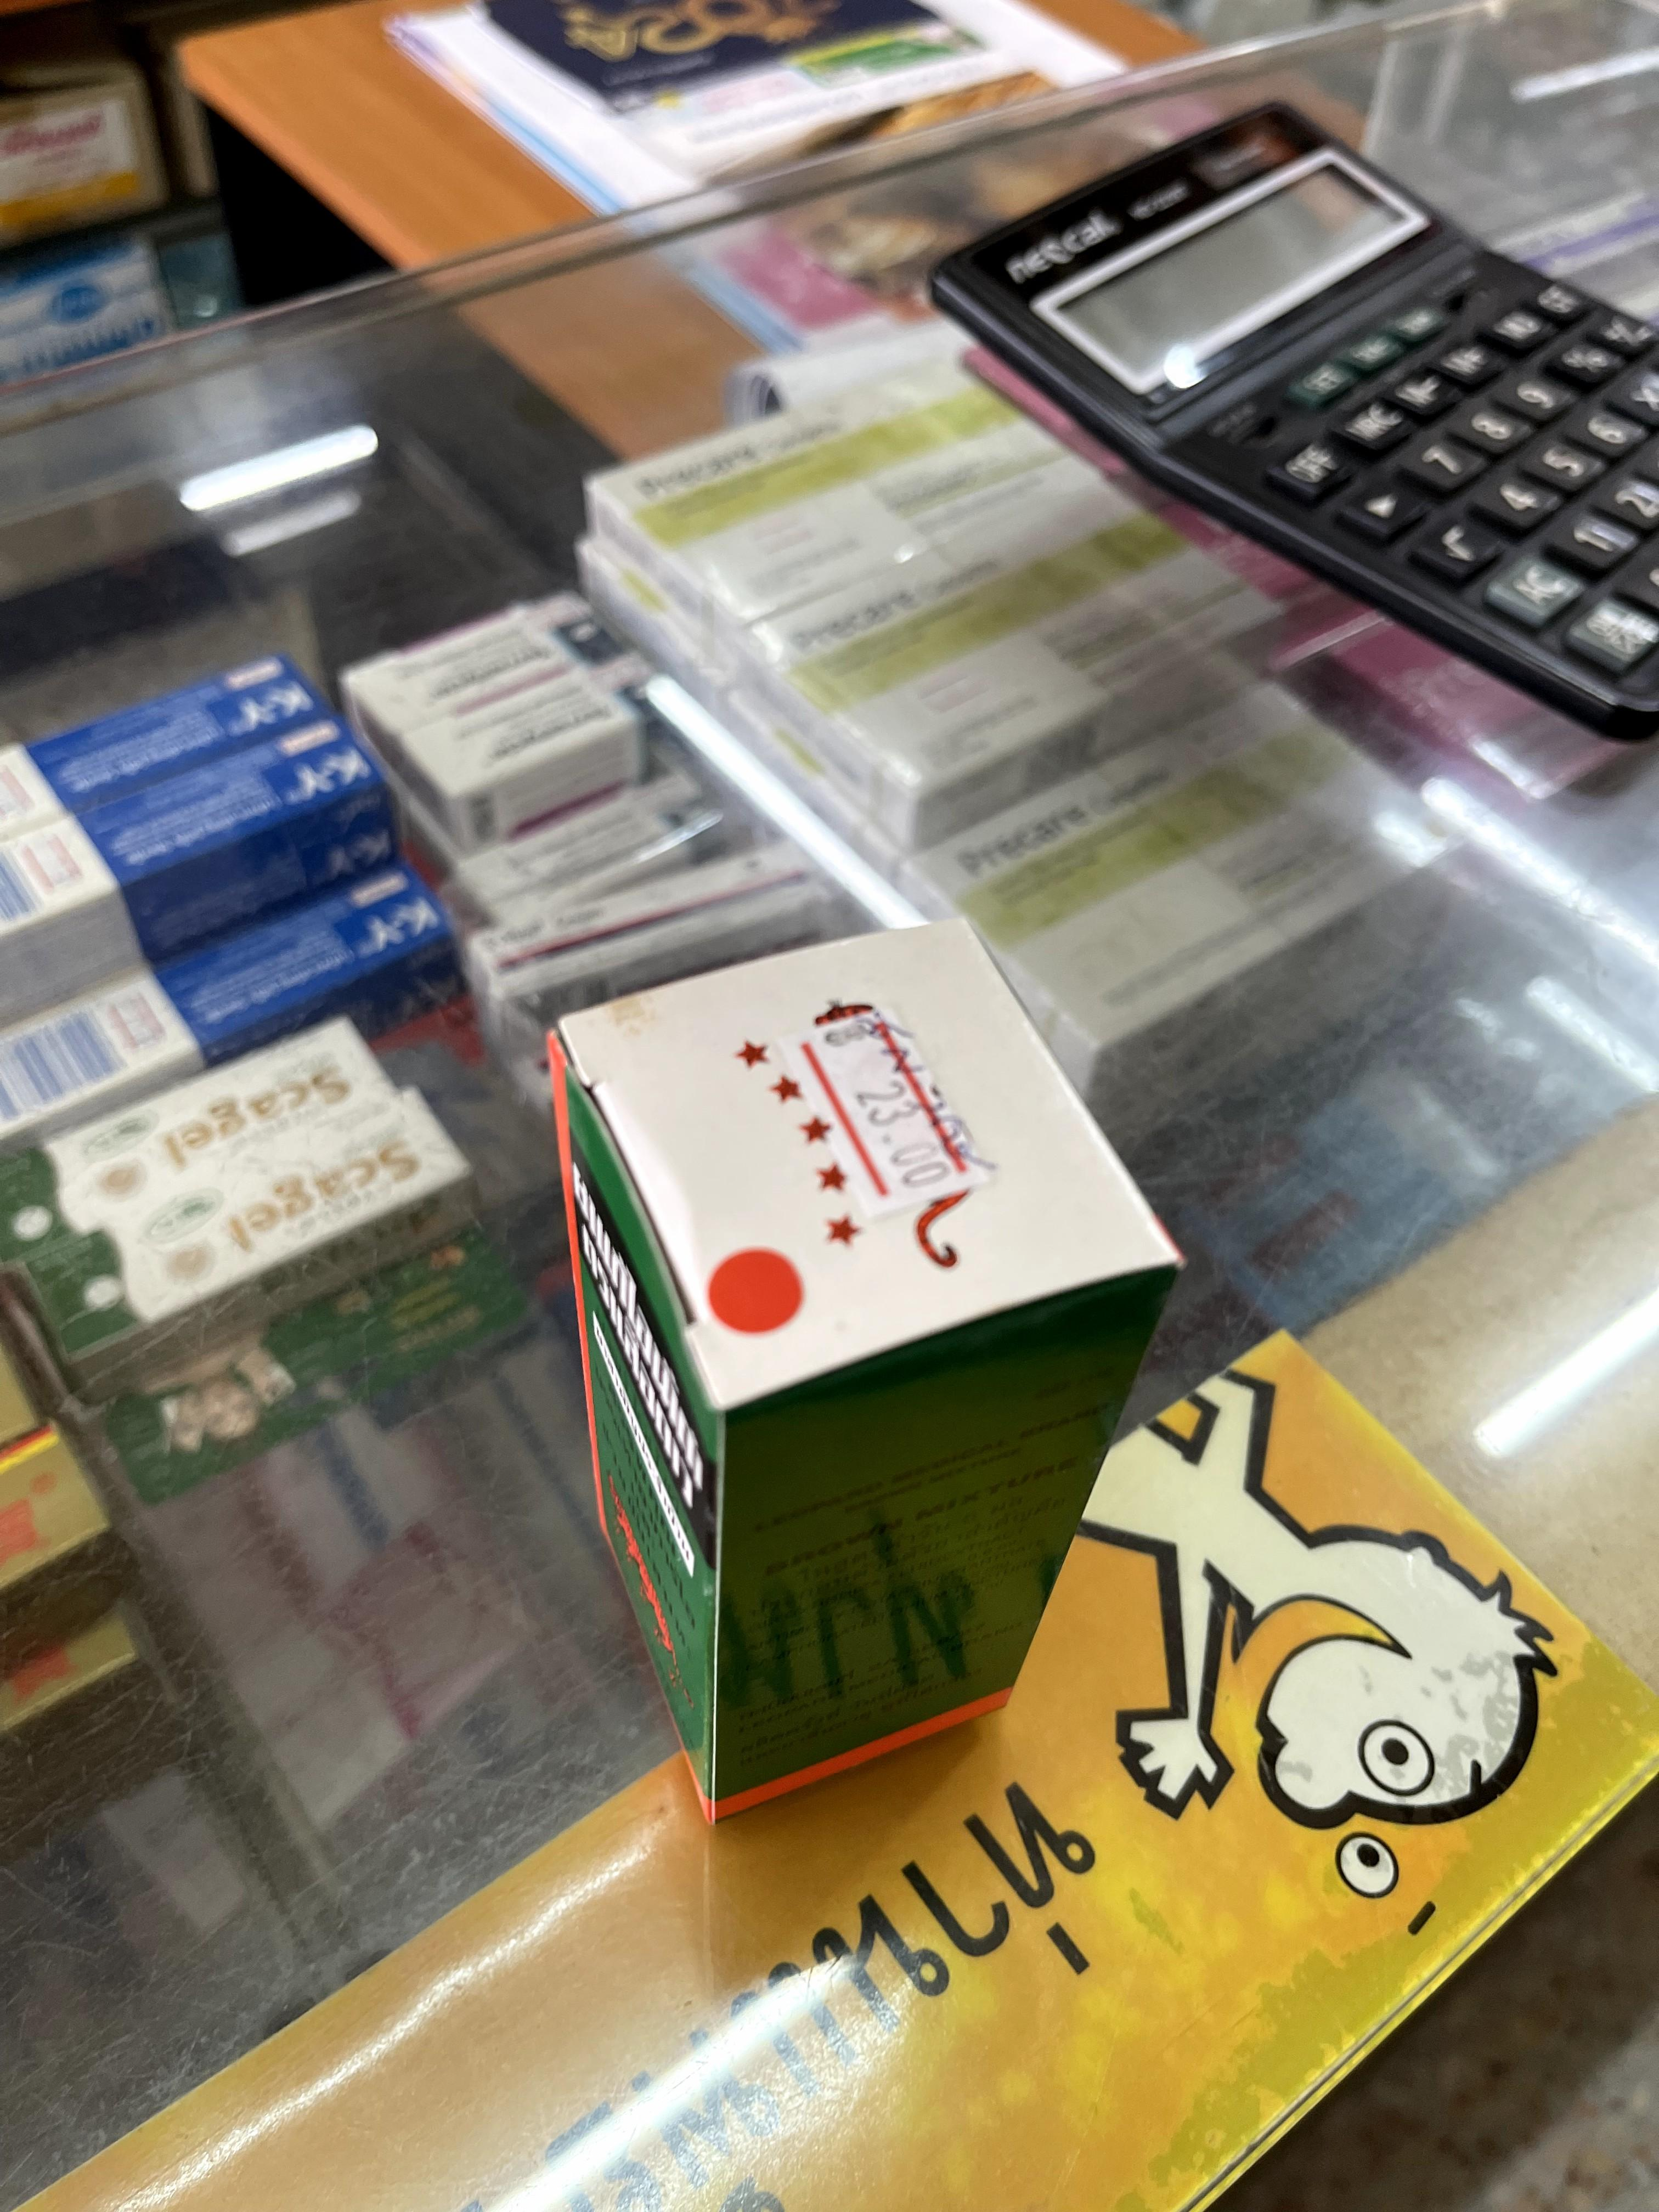Black-Tiger: (551, 921, 1171, 1824)
